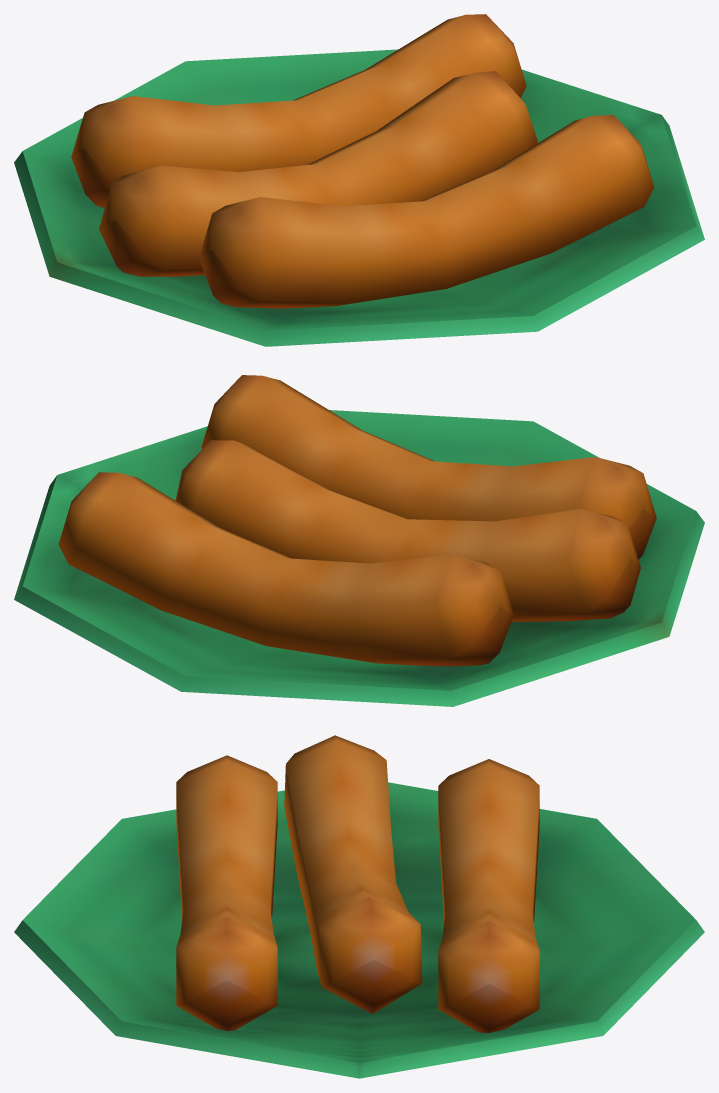
The model's file is Hotdog.gltf.
The picture shows the model from 3 angles, top to bottom: view 1: azimuth 30°, elevation 25°; view 2: azimuth 150°, elevation 25°; view 3: azimuth 270°, elevation 25°; orthographic projection. The views are drawn at different scales.
Visible parts, largest first — view 1: Hotdog; view 2: Hotdog; view 3: Hotdog.
Boxes of the visible parts, left/top/right/bottom form: Hotdog: left=14, top=14, right=704, bottom=346; Hotdog: left=14, top=375, right=704, bottom=706; Hotdog: left=14, top=735, right=704, bottom=1078.
Bounding box in the file's own units: 11.08 × 2.4 × 11.05.
1 material, 1 textured.
